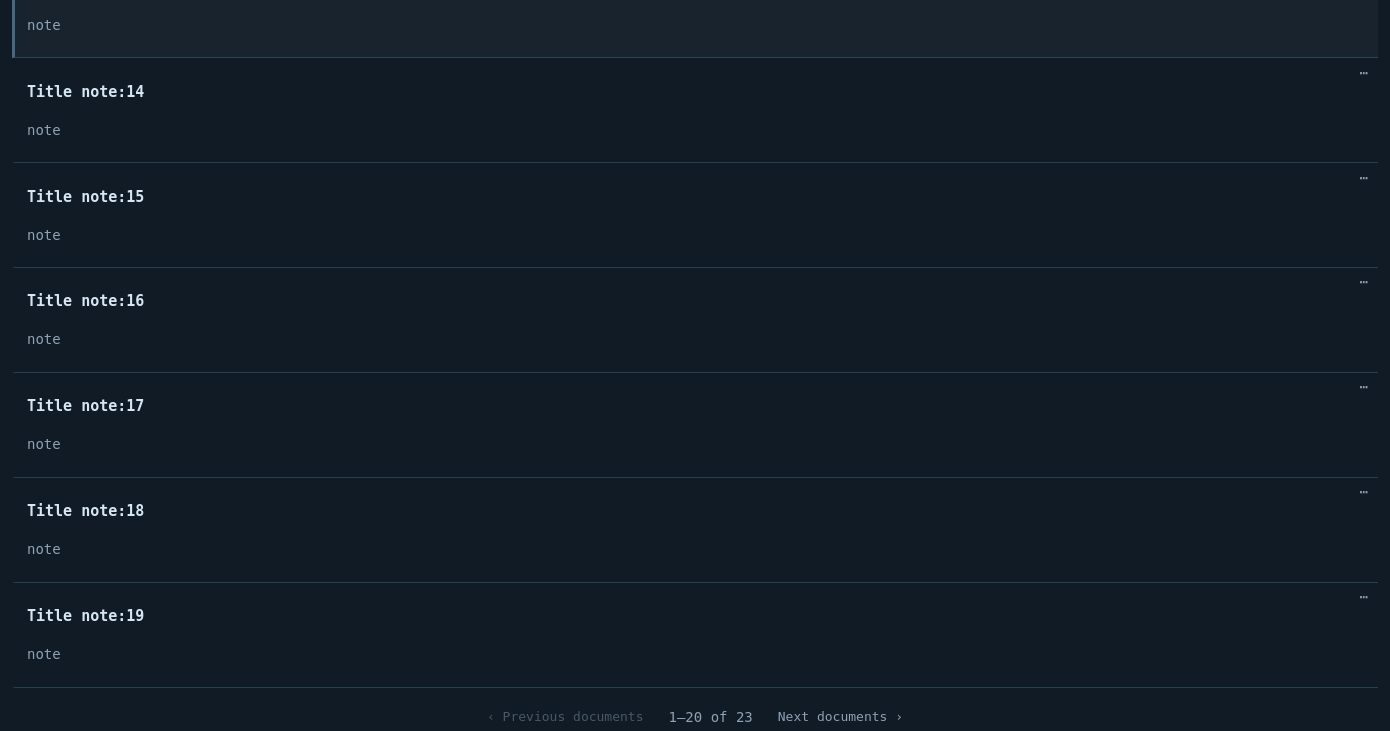
Test case: the pager › is not drawn for one page, and says where the owner is when there are more
(page scrolled)
Expected: the text "1–20 of 23" is shown, [668,706,753,728]
Click the button "Next documents ›" at point(840, 717), box [765,704,916,730]
(page scrolled)
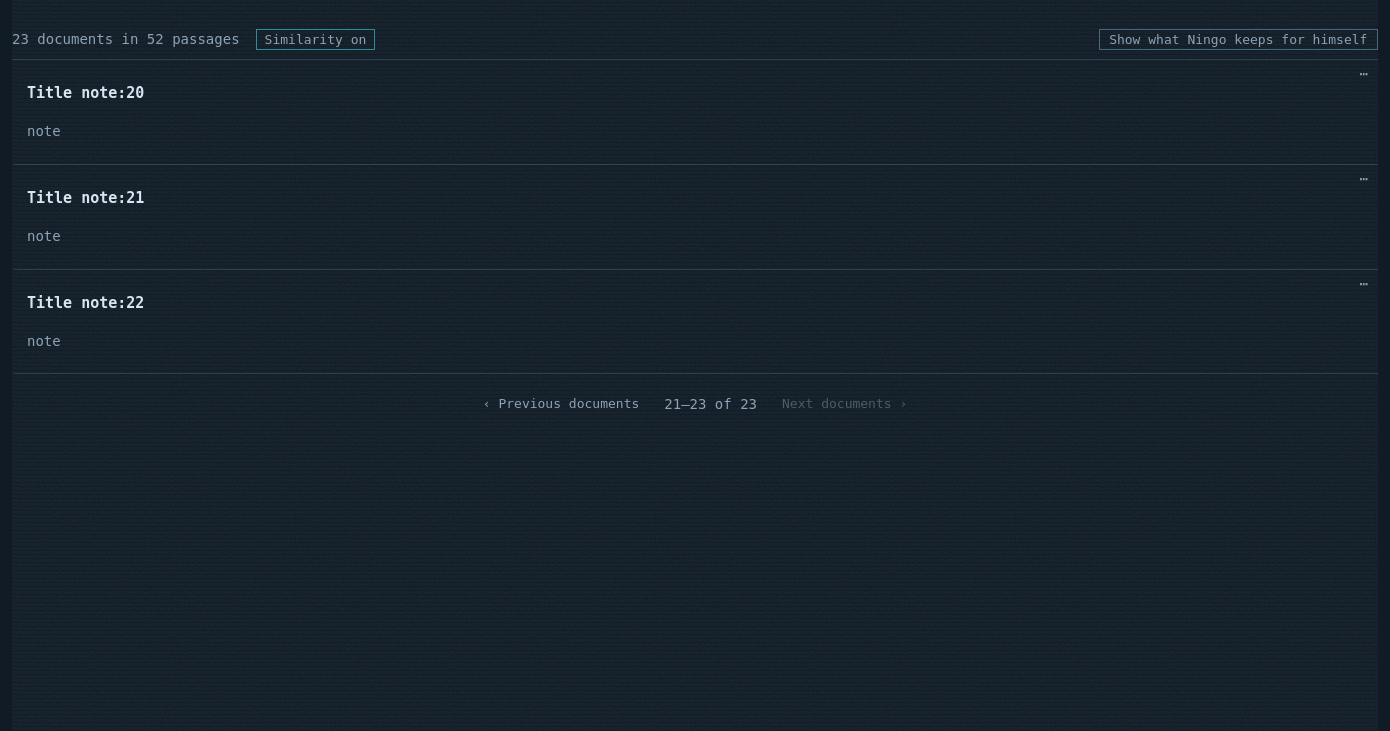
Expected: the text "21–23 of 23" is shown, [664,393,757,415]
Expected: the button "Next documents ›" is disabled, [769,390,920,417]
Note: the page the owner left stays until the next one lands, so the pager does not jump
Click the button "‹ Previous documents" at point(561, 404), box [470,390,652,417]
(page scrolled)
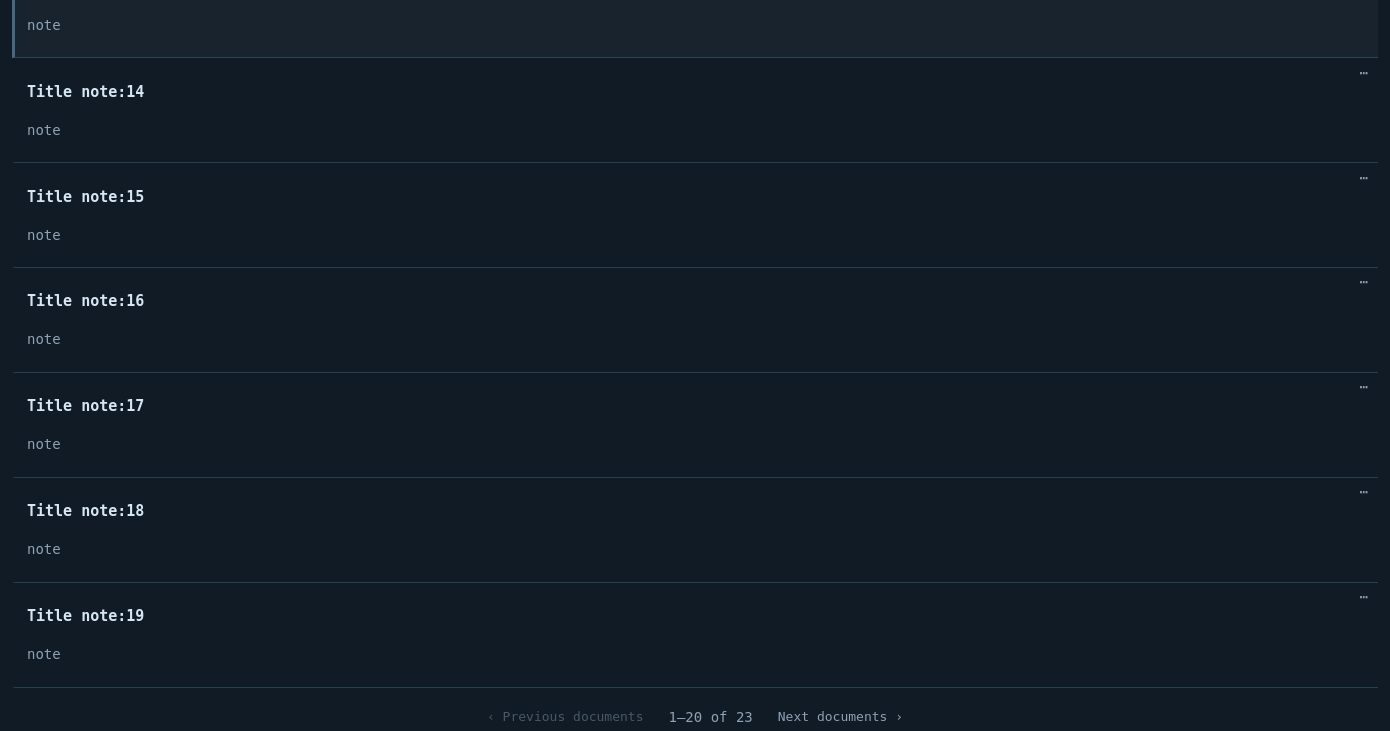
Expected: the text "1–20 of 23" is shown, [668,706,753,728]
